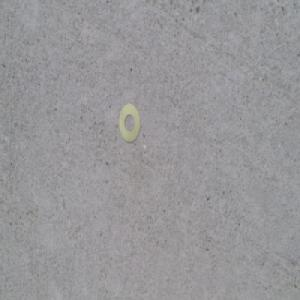Washer: (119, 103, 141, 144)
